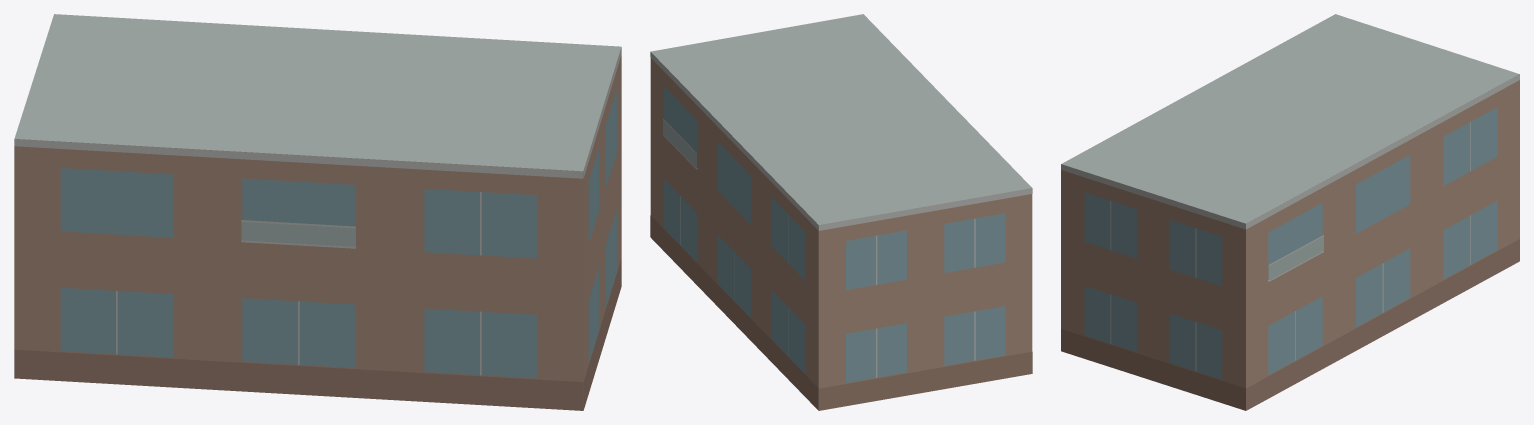
Rendered from survey-upis-32959692.glb.
3 views of the same model, side by side, from view 1: azimuth 30°, elevation 25°; view 2: azimuth 150°, elevation 25°; view 3: azimuth 270°, elevation 25° (orthographic). The views are drawn at different scales.
Visible parts, largest first — view 1: survey-upis-32959692.tmp; view 2: survey-upis-32959692.tmp; view 3: survey-upis-32959692.tmp.
Boxes of the visible parts, bbox=[...] form: survey-upis-32959692.tmp: bbox=[14, 14, 621, 410]; survey-upis-32959692.tmp: bbox=[650, 14, 1032, 410]; survey-upis-32959692.tmp: bbox=[1061, 14, 1519, 410].
Bounding box in the file's own units: 18.87 × 7.85 × 17.44.
